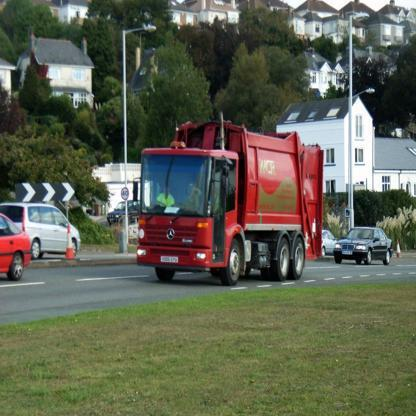fire-truck: (110, 76, 388, 331)
